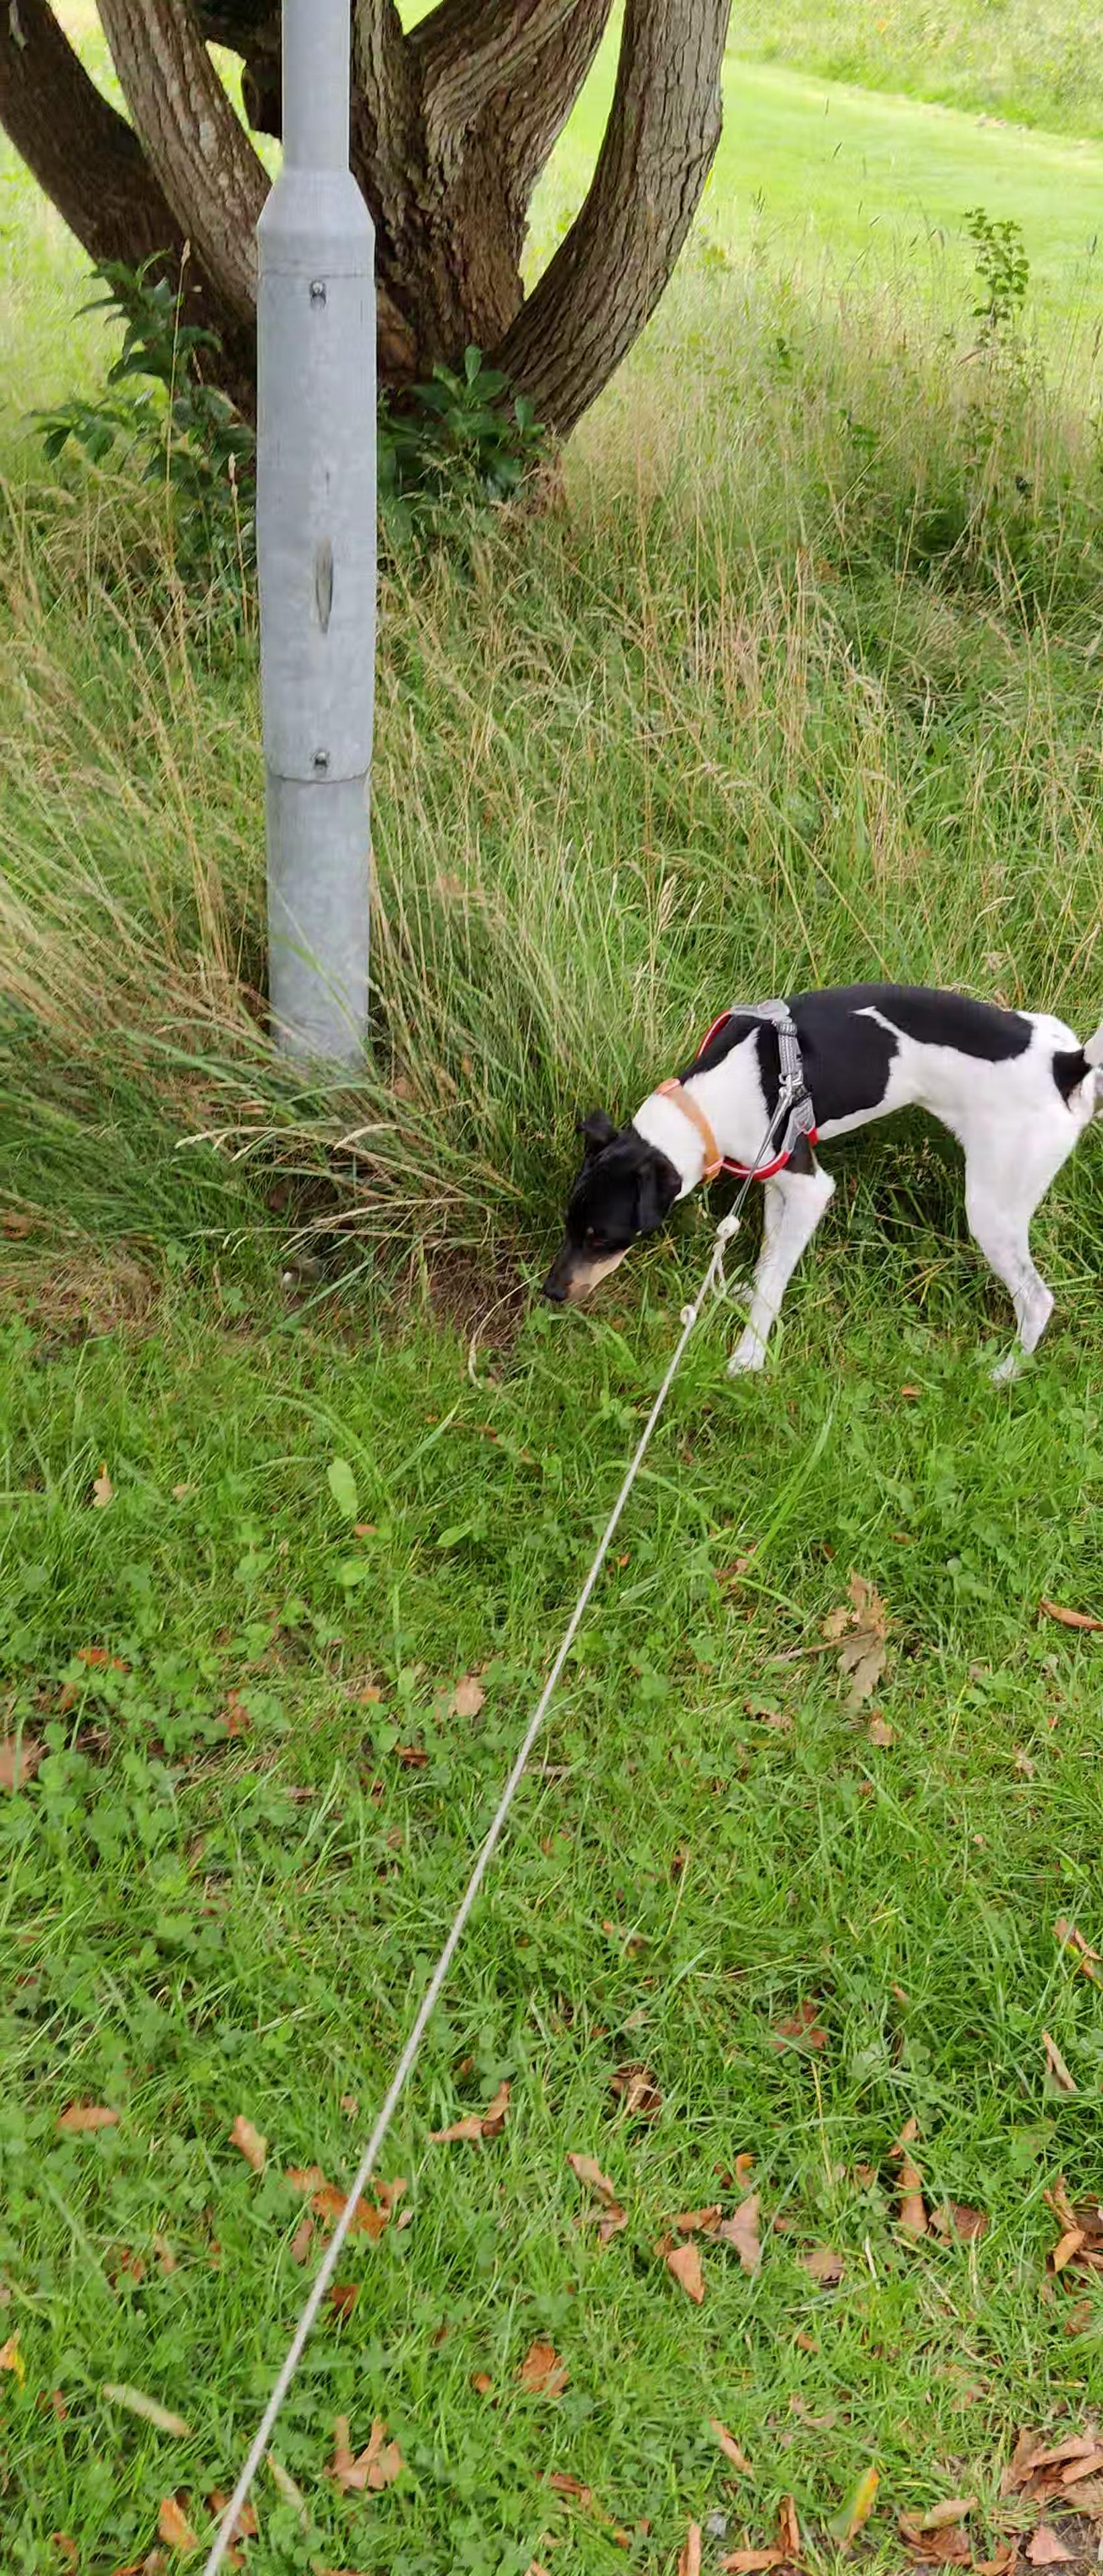Dog: (518, 976, 1103, 1390)
